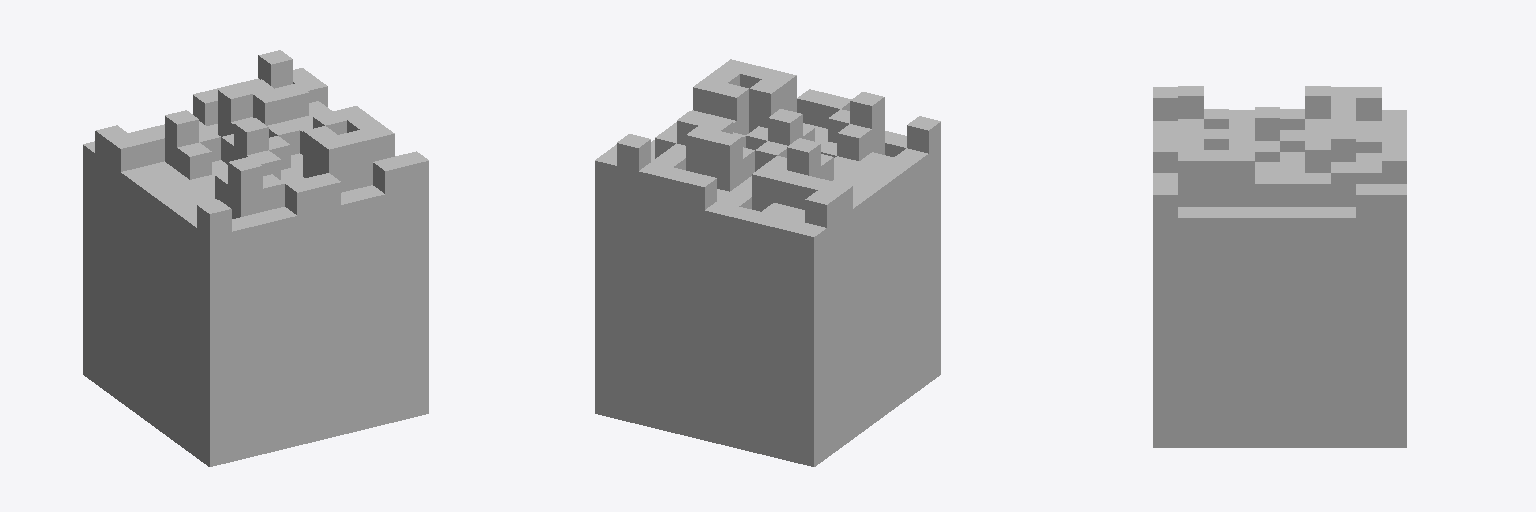
The model's file is wall block.obj.
3 renders of one model, left to right at view 1: azimuth 30°, elevation 25°; view 2: azimuth 150°, elevation 25°; view 3: azimuth 270°, elevation 25°, orthographic.
Visible parts, largest first — view 1: object 1; view 2: object 1; view 3: object 1.
Boxes of the visible parts, box(x1,y1,x2,y2) form: object 1: box(83, 50, 428, 466); object 1: box(595, 59, 940, 466); object 1: box(1153, 86, 1406, 447).
Bounding box in the file's own units: 1 × 1.2 × 1.